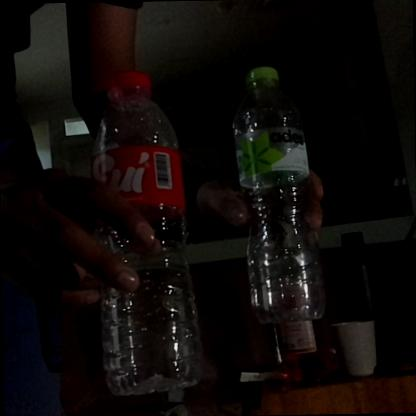plastic_bottles: (93, 68, 207, 391), (231, 66, 336, 333)
